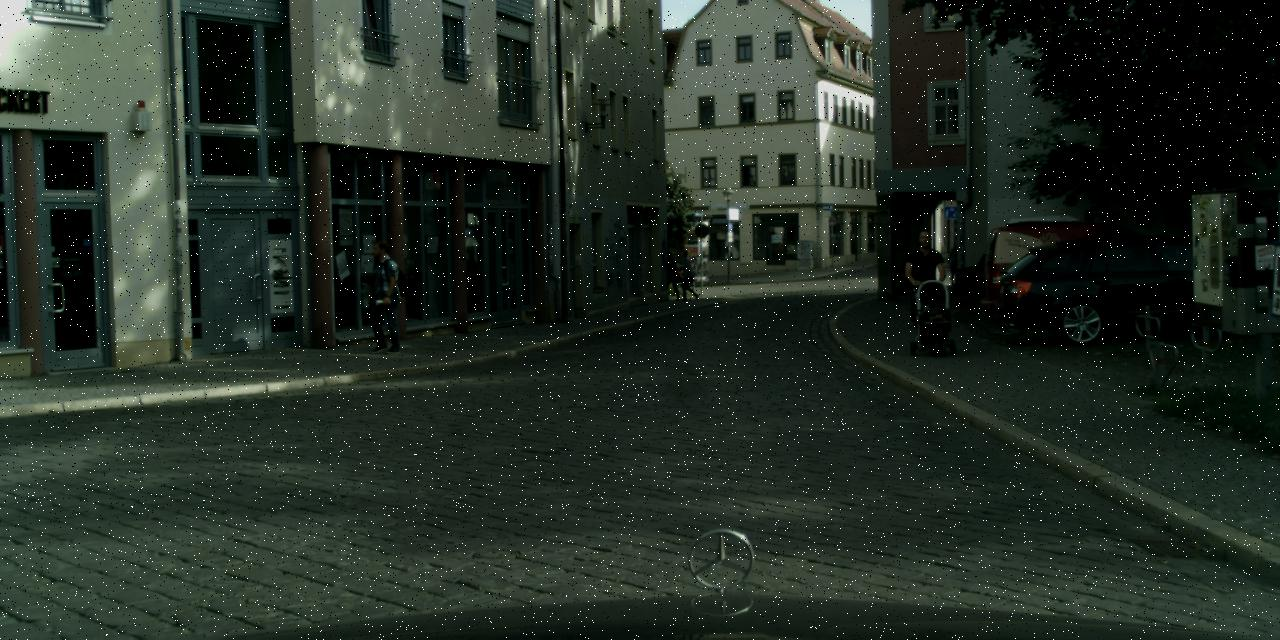ped: (901, 228, 949, 344), (362, 241, 407, 351), (659, 250, 679, 299), (677, 249, 696, 299), (948, 246, 963, 285)
